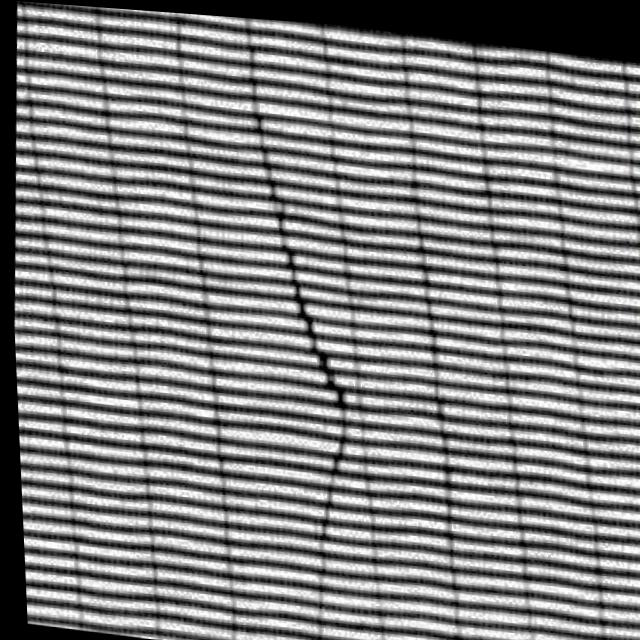Stitch: (220, 157, 408, 569)
